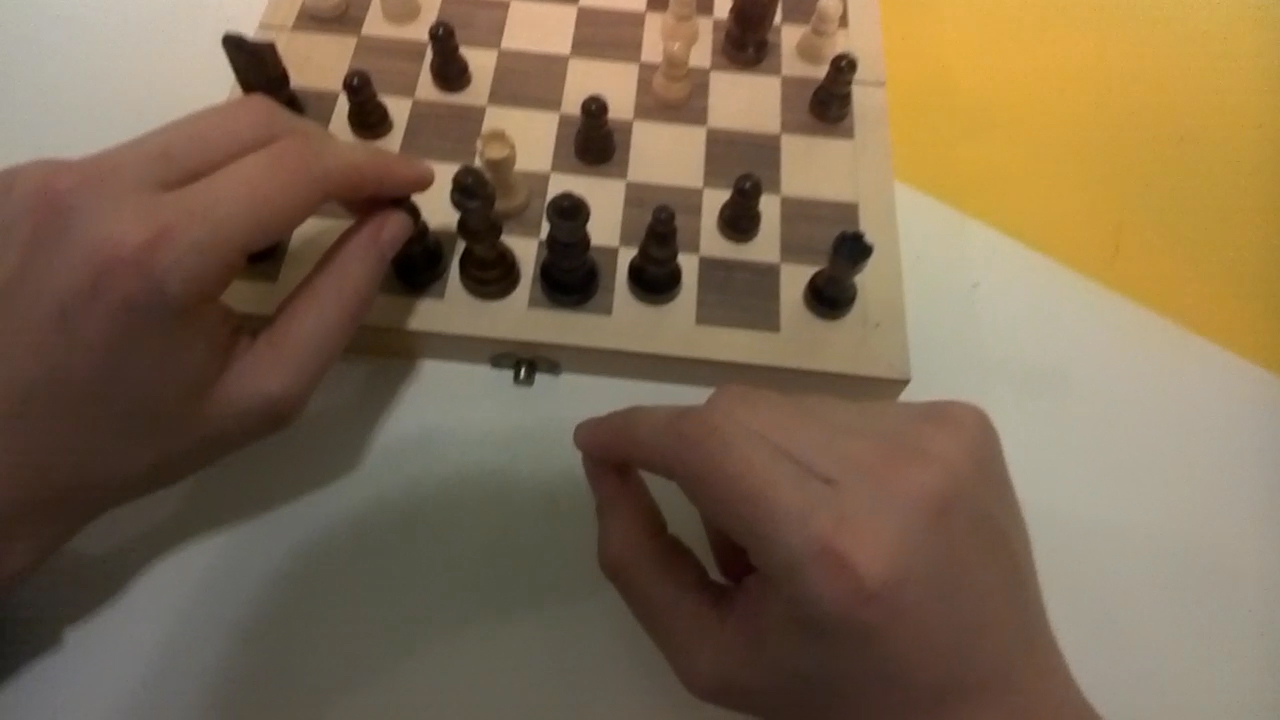hand: (6, 106, 432, 589), (579, 390, 1087, 709)
